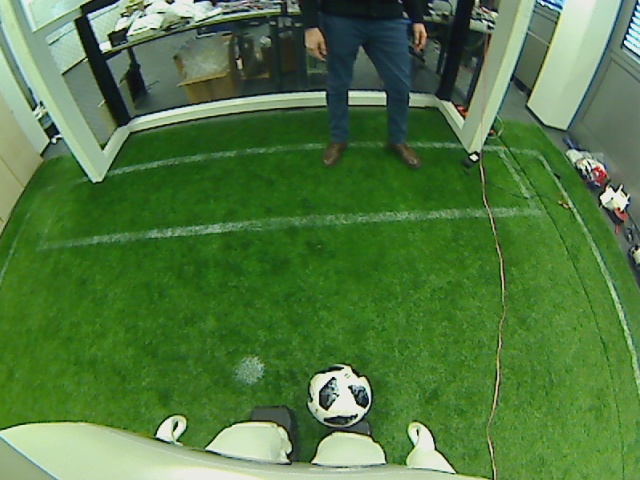ball: (305, 361, 374, 428)
